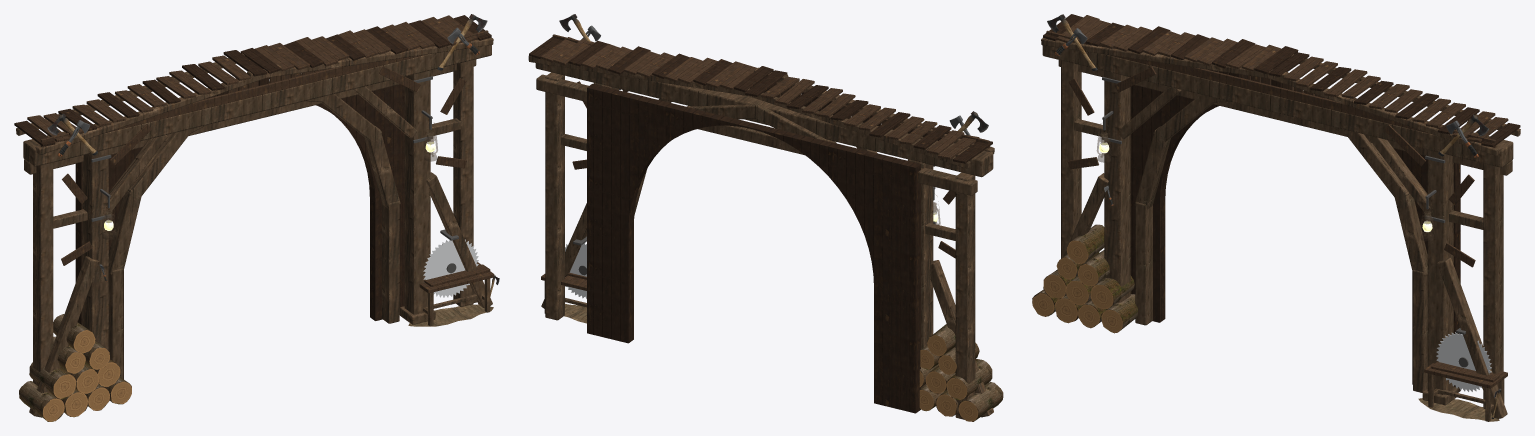
File: fachada_07.glb
3 renders of one model, left to right at view 1: azimuth 30°, elevation 25°; view 2: azimuth 150°, elevation 25°; view 3: azimuth 330°, elevation 25°, orthographic. The views are drawn at different scales.
Visible parts, largest first — view 1: F07_madeira, F07_tabua, F07_tabua_esc, F07_casca, F07_aco, F07_wooden_axe, F07_serragem, F07_LUZ_chama_quente, F07_ferro, F07_hatchet; view 2: F07_tabua_esc, F07_madeira, F07_tabua, F07_casca, F07_wooden_axe, F07_aco; view 3: F07_madeira, F07_tabua, F07_tabua_esc, F07_casca, F07_aco, F07_wooden_axe, F07_serragem, F07_LUZ_chama_quente, F07_hatchet, F07_ferro.
Part boxes in pixels (x1,y1,x2,y2): F07_madeira: (16,37,493,417); F07_tabua: (27,15,494,293); F07_tabua_esc: (14,15,491,379); F07_casca: (19,314,131,421); F07_aco: (423,239,478,297); F07_wooden_axe: (47,14,499,296); F07_serragem: (408,304,493,326); F07_LUZ_chama_quente: (101,123,437,239); F07_ferro: (91,76,458,273); F07_hatchet: (57,27,479,281); F07_tabua_esc: (529,37,992,413); F07_madeira: (528,56,994,419); F07_tabua: (540,34,989,290); F07_casca: (919,324,1003,421); F07_wooden_axe: (559,14,988,132); F07_aco: (565,243,586,298); F07_madeira: (1041,37,1520,421); F07_tabua: (1046,15,1508,388); F07_tabua_esc: (1043,14,1520,391); F07_casca: (1032,224,1137,333); F07_aco: (1436,332,1491,391); F07_wooden_axe: (1047,14,1501,418); F07_serragem: (1418,398,1499,421); F07_LUZ_chama_quente: (1097,125,1434,241); F07_hatchet: (1054,28,1478,205); F07_ferro: (1102,77,1468,367).
Bounding box in the file's own units: 12.15 × 7.65 × 1.67.
Materials: 12 (9 with a texture image).
